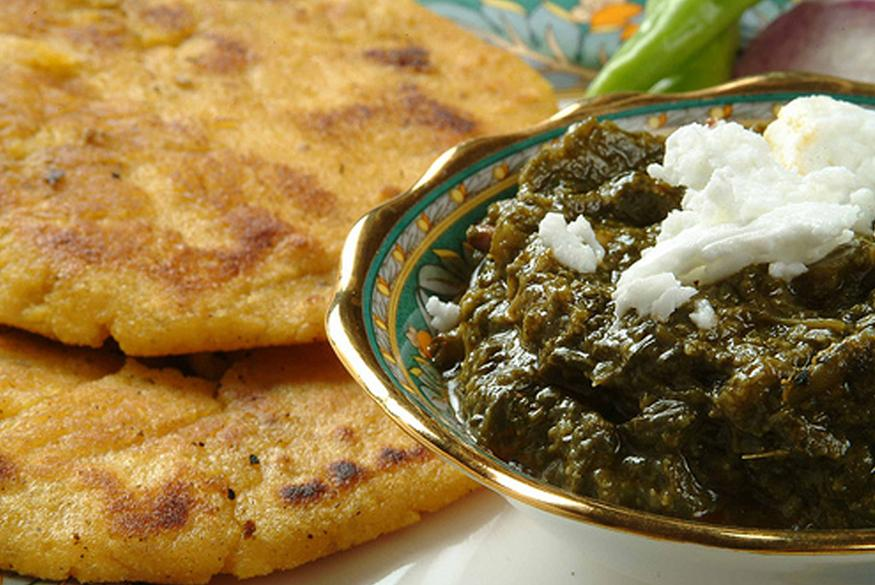saag: (473, 121, 875, 526)
